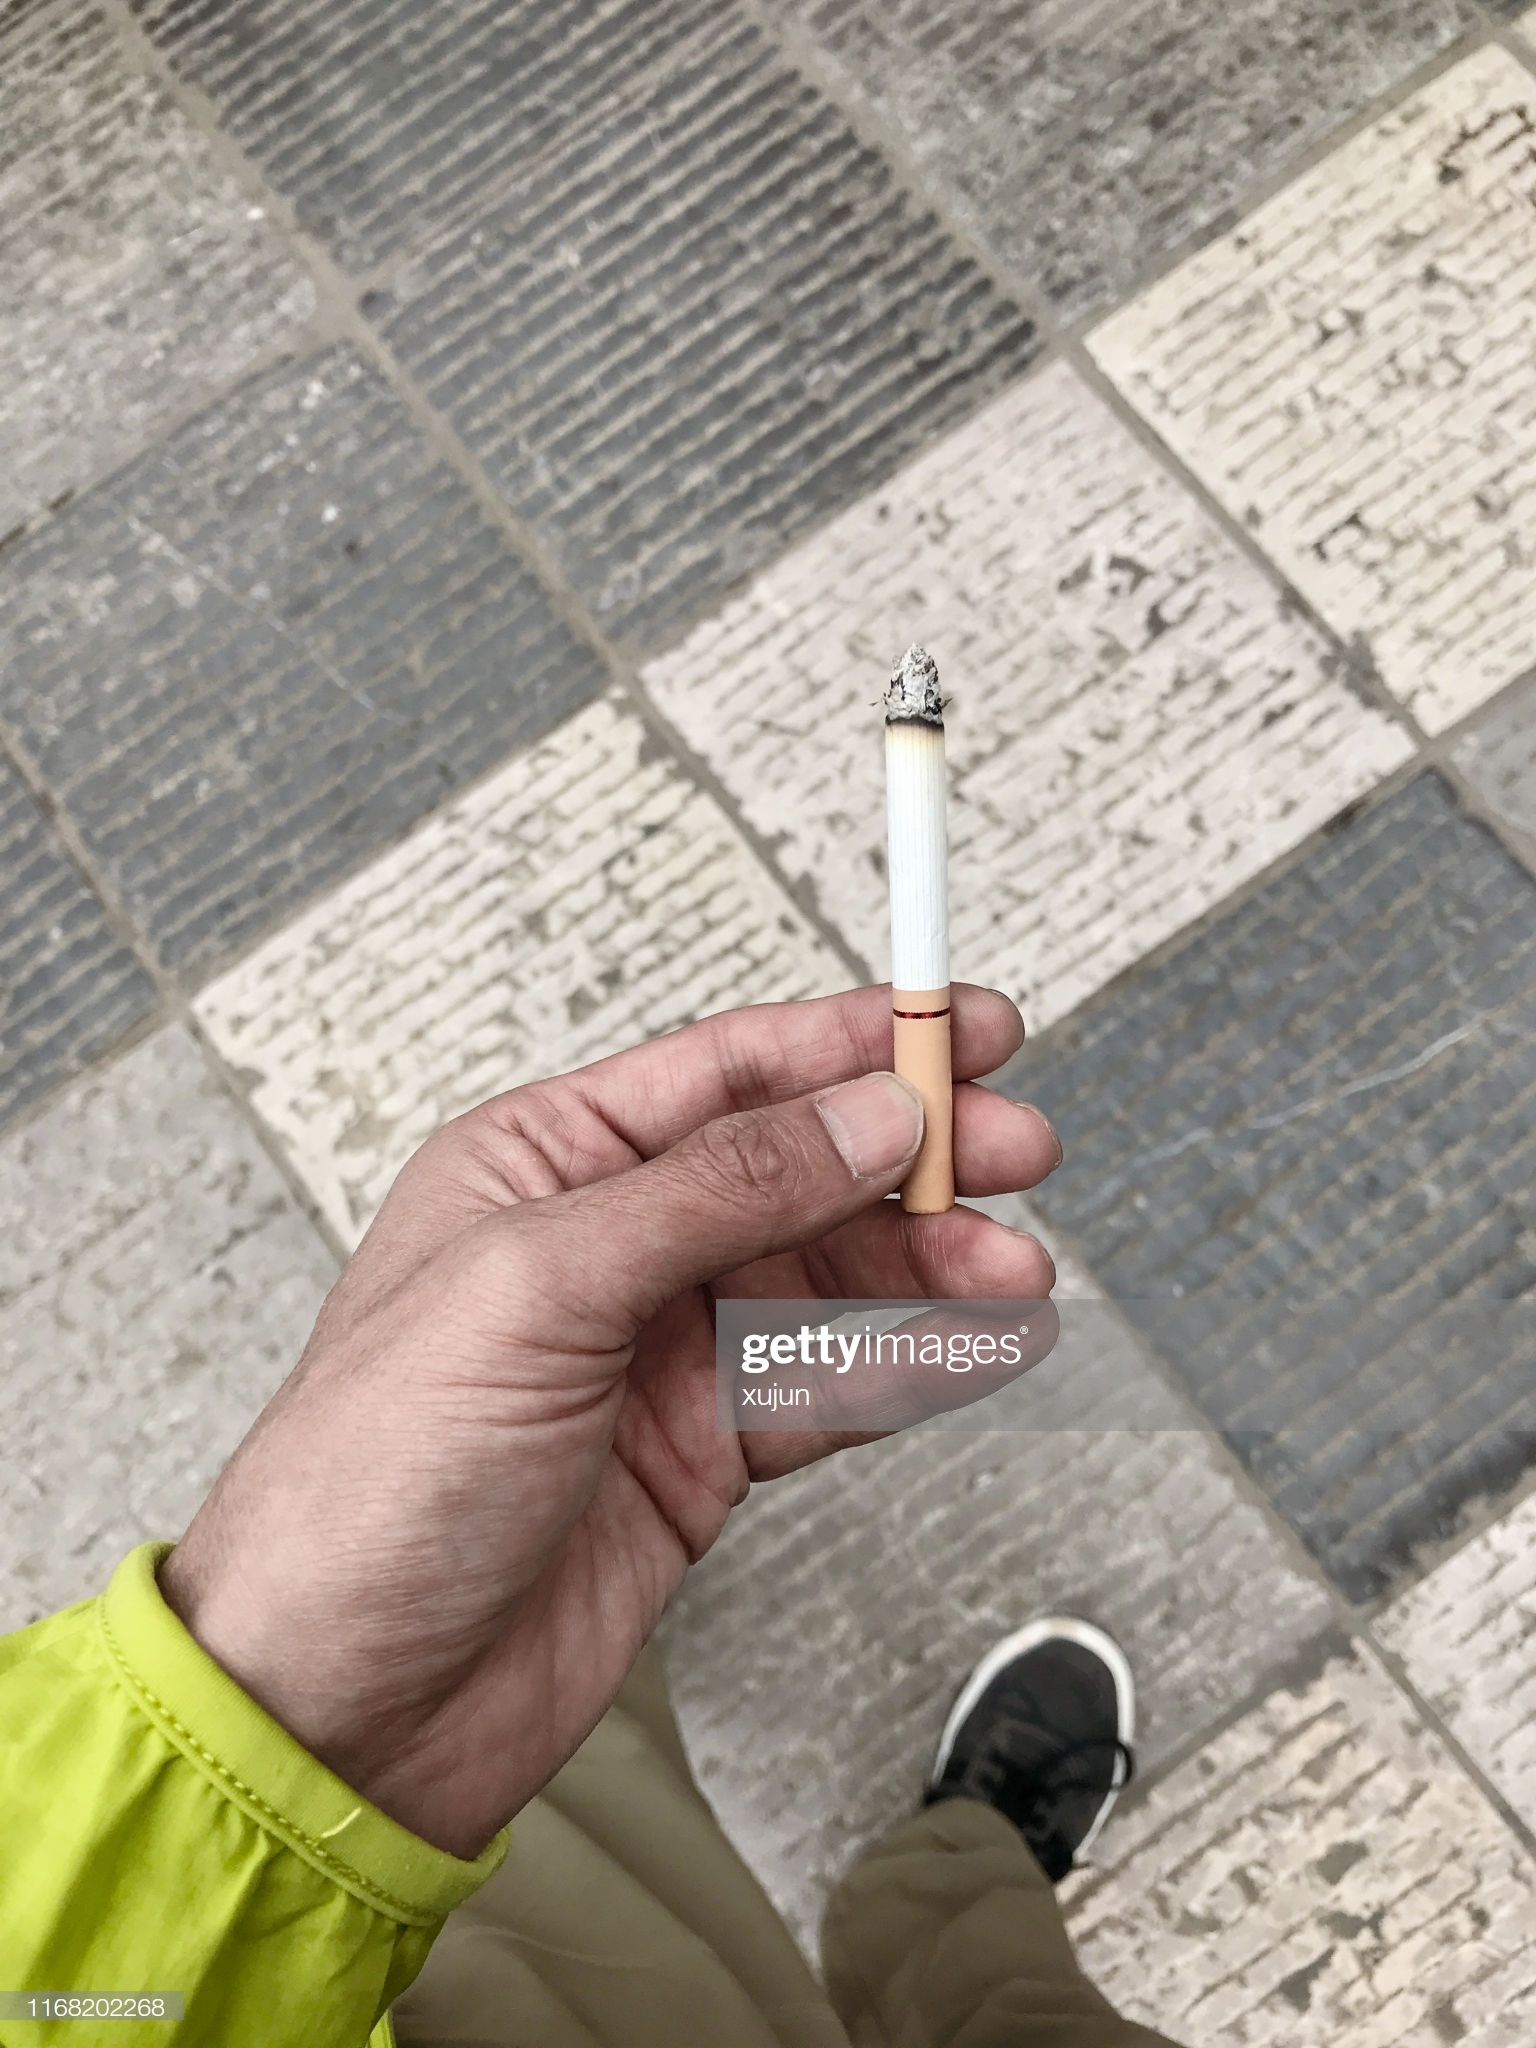sigaretta: (866, 689, 947, 1218)
